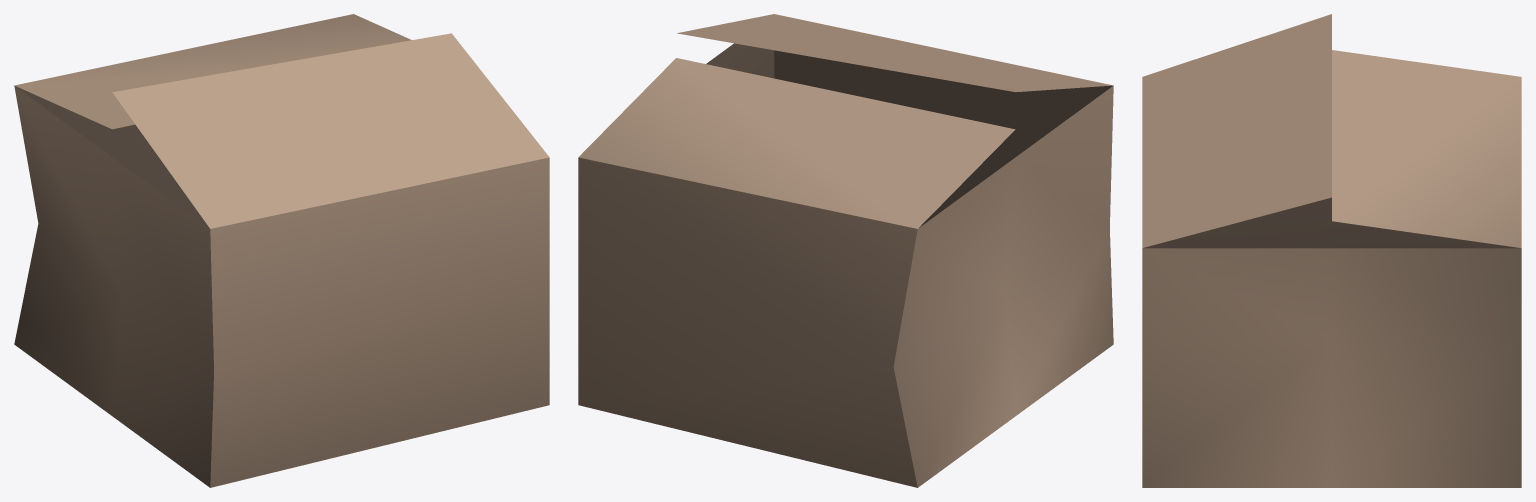
The model's file is K_GOMI09.glb.
The picture shows the model from 3 angles, left to right: view 1: azimuth 30°, elevation 25°; view 2: azimuth 150°, elevation 25°; view 3: azimuth 270°, elevation 25°; orthographic projection. The views are drawn at different scales.
Parts seen in each view (by area): view 1: FRAME_ROOT; view 2: FRAME_ROOT; view 3: FRAME_ROOT.
Boxes of the visible parts, left/top/right/bottom form: FRAME_ROOT: left=14, top=14, right=549, bottom=487; FRAME_ROOT: left=578, top=14, right=1113, bottom=487; FRAME_ROOT: left=1142, top=14, right=1521, bottom=487.
Bounding box in the file's own units: 1.44 × 1.31 × 1.44.
1 material, 1 textured.
